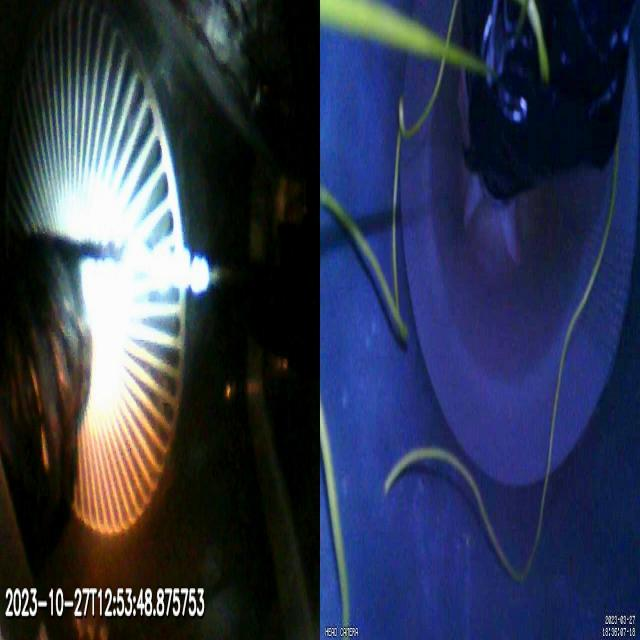white-dots: (153, 243, 210, 294)
